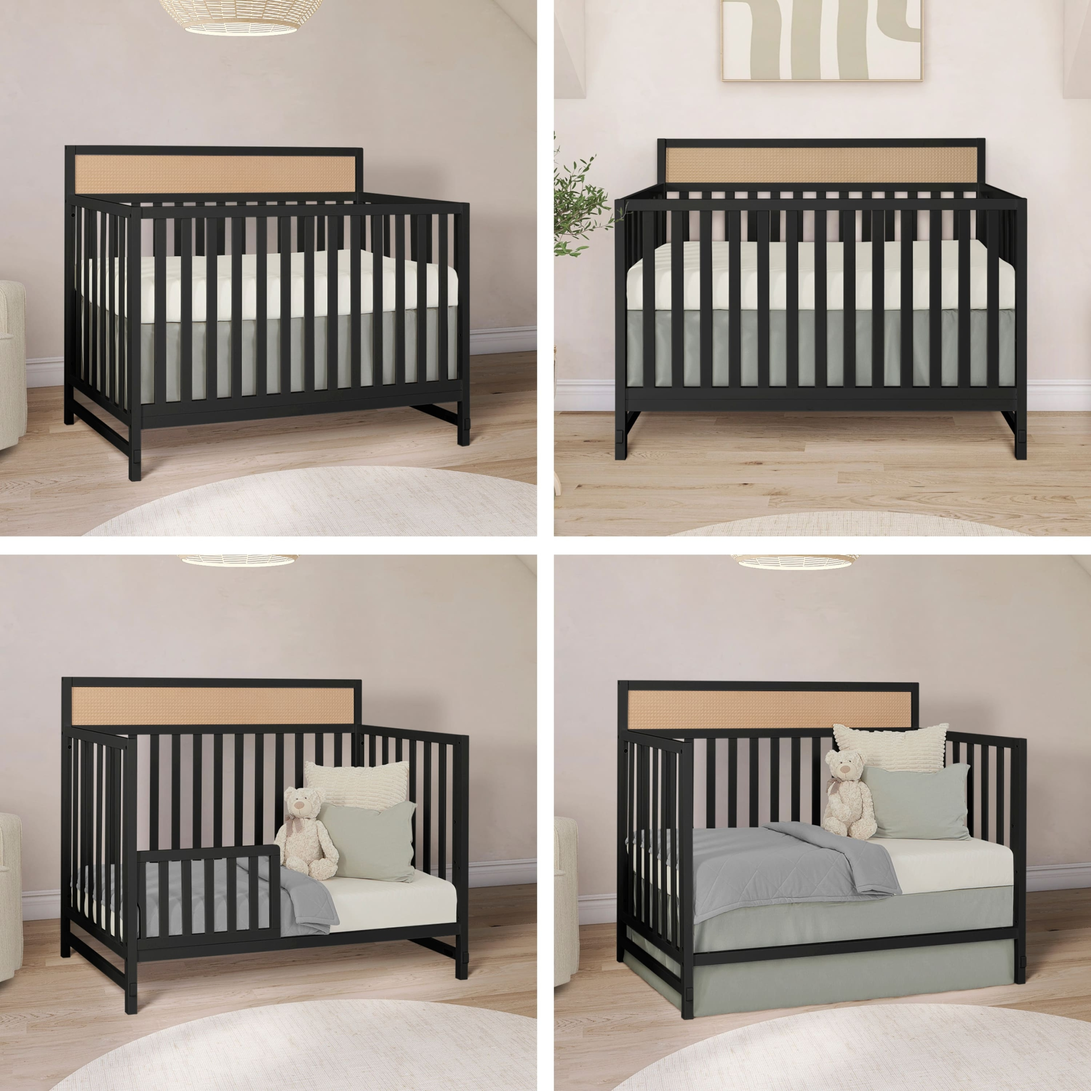crib: (618, 679, 1028, 1018), (60, 677, 469, 1014), (63, 146, 470, 481), (615, 139, 1027, 460)
